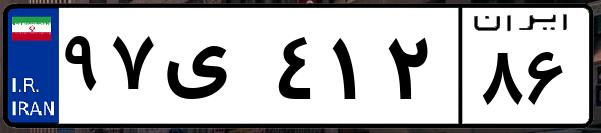1: (330, 28, 385, 110)
2: (385, 28, 445, 110)
4: (270, 28, 330, 110)
6: (525, 38, 570, 115)
7: (110, 28, 158, 98)
8: (475, 38, 525, 113)
9: (57, 26, 110, 100)
ی: (158, 20, 270, 120)
